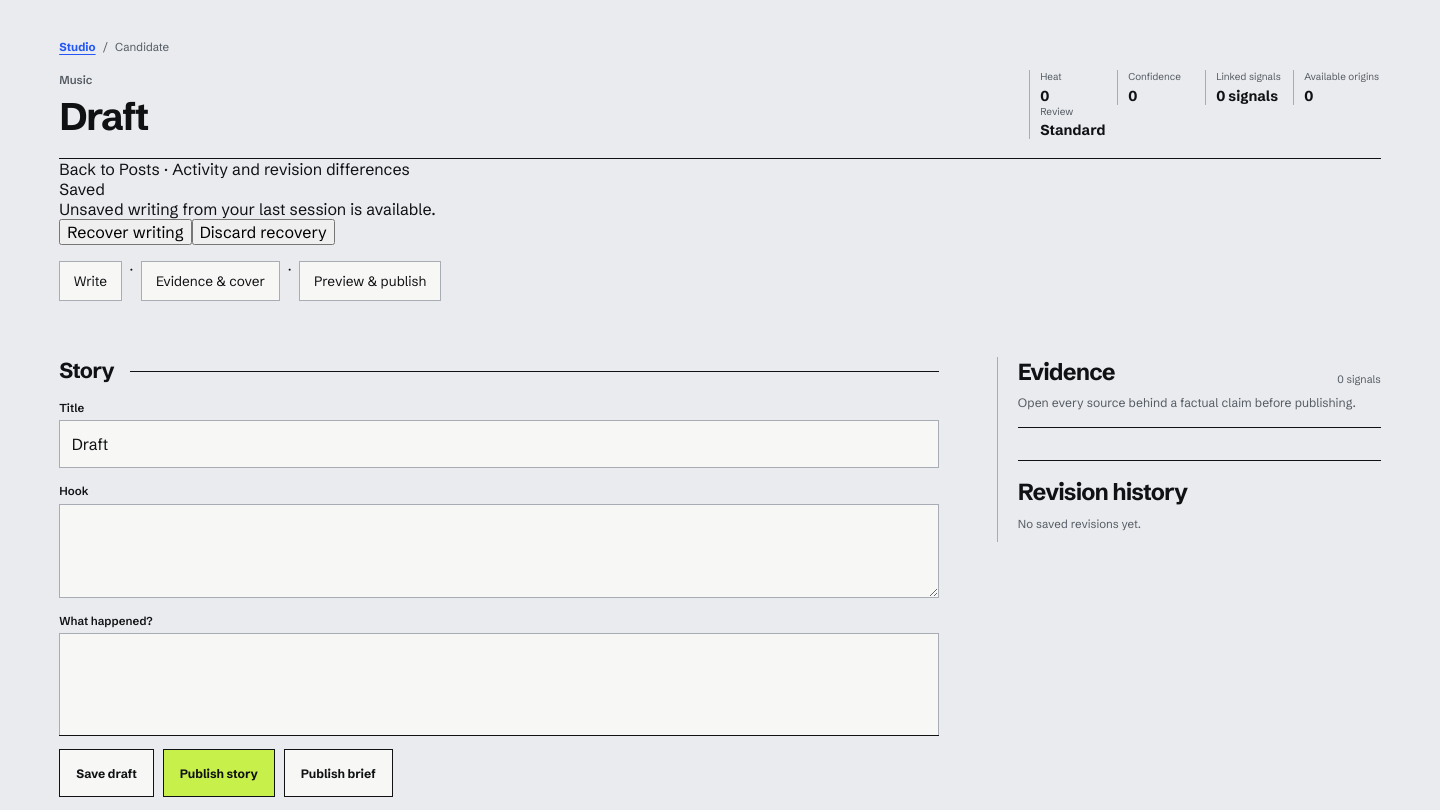
Test case: recovers Music to Style with both newly mounted subtopics and writing intact
Click the button "Recover writing" at coordinates (125, 232), box [59,219,192,245]
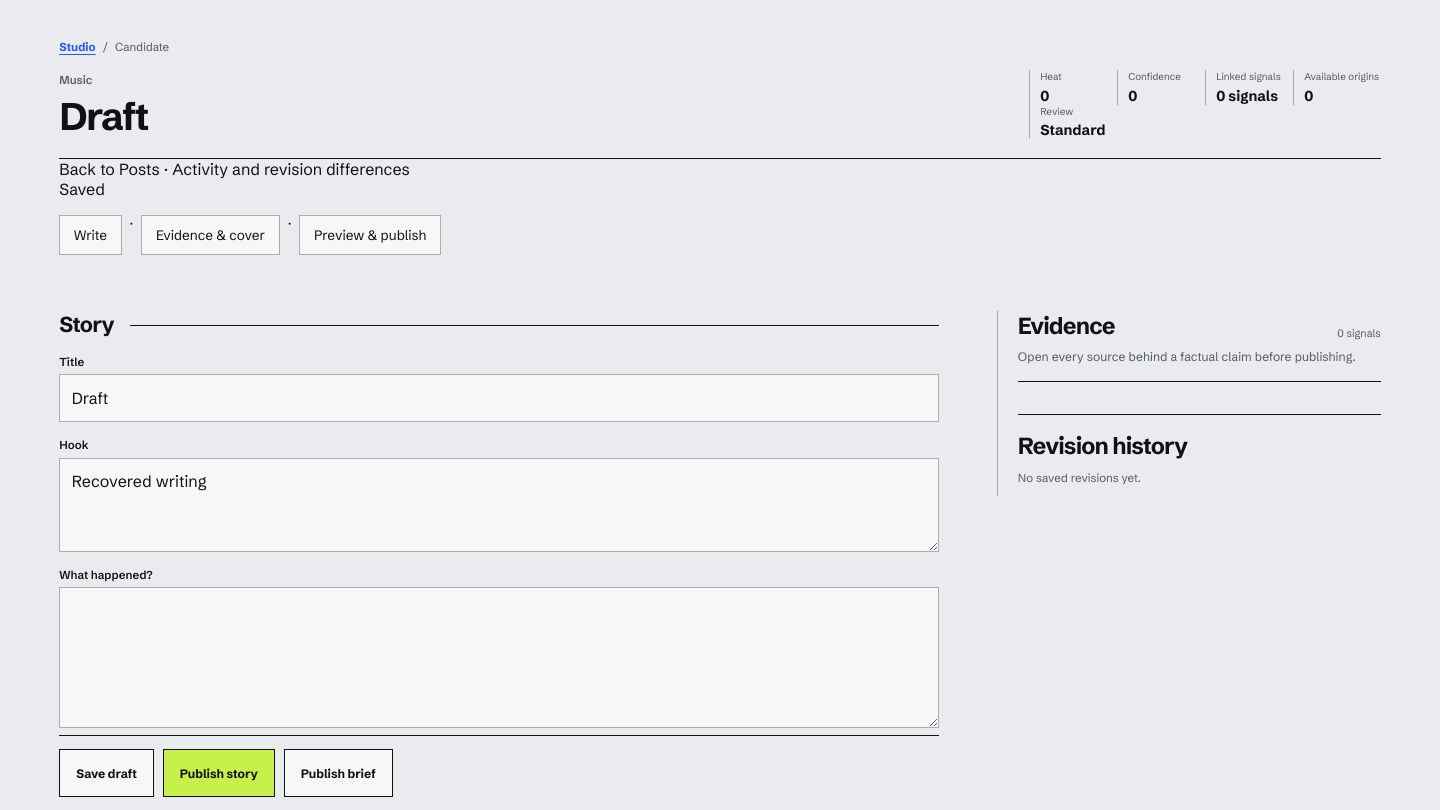
Check: the text box labelled "Hook" holds "Recovered writing", box [59,458,939,552]
